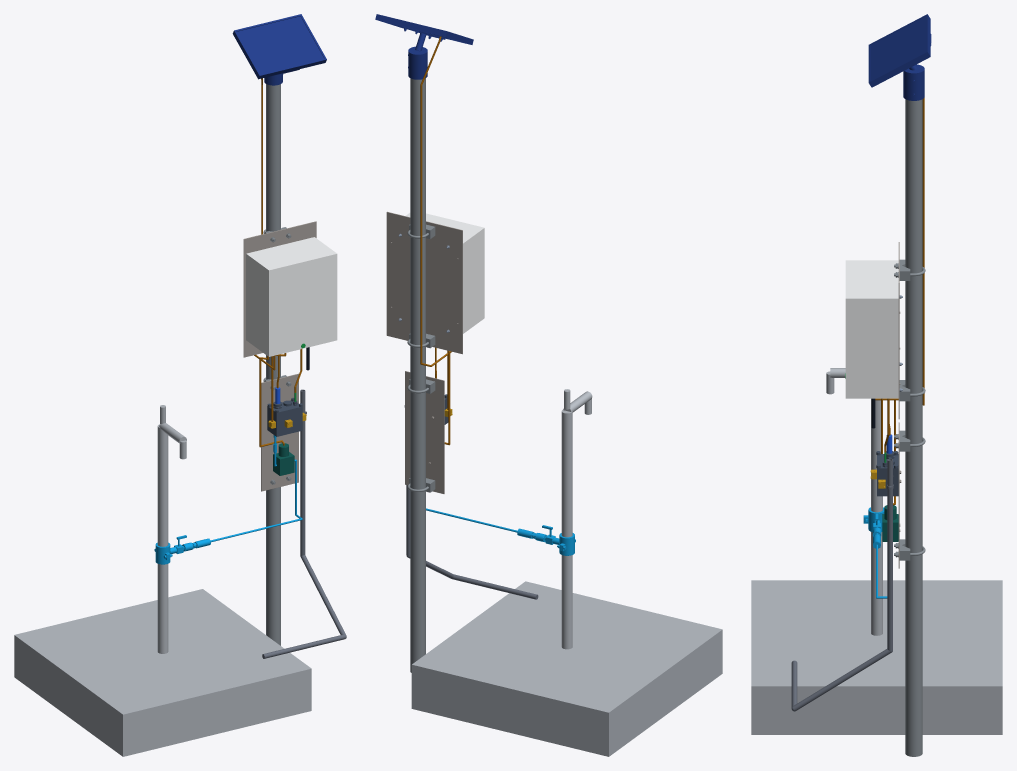
3 views of the same model, side by side, from view 1: azimuth 30°, elevation 25°; view 2: azimuth 150°, elevation 25°; view 3: azimuth 270°, elevation 25° (orthographic). The views are drawn at different scales.
Visible parts, largest first — view 1: Existing tapstand (not in BOM), Sun shield, ventilated, Mounting pole, U-bolts and saddles, Solar panel, 5 W, with bracket, Mounting plates, Drain hose and air break, Cables, glands and fuse, Sample line, tee and regulator, Flow-through cell; view 2: Existing tapstand (not in BOM), Mounting plates, Mounting pole, U-bolts and saddles, Sun shield, ventilated, Solar panel, 5 W, with bracket, Cables, glands and fuse, Drain hose and air break, Sample line, tee and regulator; view 3: Existing tapstand (not in BOM), Mounting pole, U-bolts and saddles, Sun shield, ventilated, Solar panel, 5 W, with bracket, Drain hose and air break, Cables, glands and fuse, Flow-through cell, Mounting plates, Sample line, tee and regulator.
Part boxes in pixels (left/top/right/bottom): Existing tapstand (not in BOM): left=14, top=405, right=311, bottom=756; Sun shield, ventilated: left=246, top=237, right=337, bottom=356; Mounting pole, U-bolts and saddles: left=263, top=84, right=291, bottom=645; Solar panel, 5 W, with bracket: left=232, top=14, right=326, bottom=85; Mounting plates: left=243, top=221, right=316, bottom=491; Drain hose and air break: left=262, top=389, right=346, bottom=658; Cables, glands and fuse: left=254, top=78, right=302, bottom=447; Sample line, tee and regulator: left=154, top=435, right=302, bottom=564; Flow-through cell: left=267, top=397, right=302, bottom=436; Existing tapstand (not in BOM): left=411, top=389, right=722, bottom=756; Mounting plates: left=386, top=211, right=462, bottom=493; Mounting pole, U-bolts and saddles: left=407, top=78, right=435, bottom=672; Sun shield, ventilated: left=405, top=213, right=484, bottom=333; Solar panel, 5 W, with bracket: left=375, top=14, right=473, bottom=79; Cables, glands and fuse: left=420, top=36, right=451, bottom=445; Drain hose and air break: left=404, top=405, right=538, bottom=599; Sample line, tee and regulator: left=426, top=508, right=575, bottom=555; Existing tapstand (not in BOM): left=751, top=368, right=1002, bottom=734; Mounting pole, U-bolts and saddles: left=894, top=99, right=925, bottom=756; Sun shield, ventilated: left=845, top=260, right=898, bottom=398; Solar panel, 5 W, with bracket: left=868, top=14, right=931, bottom=100; Drain hose and air break: left=791, top=458, right=893, bottom=711; Cables, glands and fuse: left=875, top=97, right=924, bottom=505; Flow-through cell: left=876, top=451, right=898, bottom=496; Mounting plates: left=898, top=242, right=901, bottom=568; Sample line, tee and regulator: left=863, top=507, right=887, bottom=598.
Bounding box in the file's own units: 0.955 × 2.22 × 0.7.
